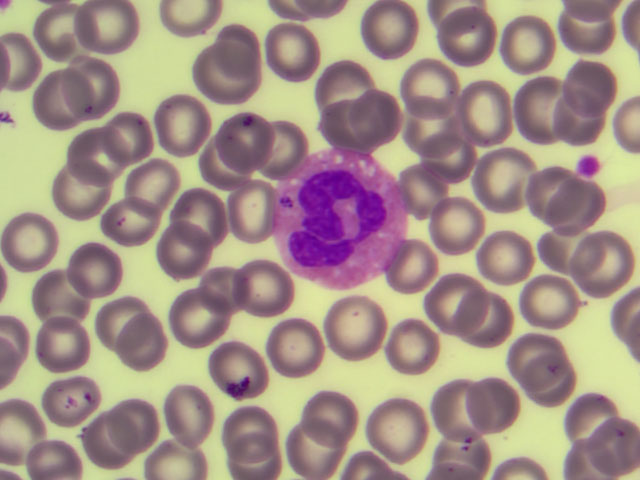Platelets: (577, 151, 603, 180)
RBC: (19, 422, 77, 480), (582, 422, 640, 480), (31, 1, 89, 58), (72, 62, 130, 119), (38, 75, 96, 132), (114, 105, 172, 162), (71, 116, 129, 173), (48, 161, 106, 218), (1, 210, 59, 267), (63, 245, 121, 302), (28, 272, 86, 329), (23, 314, 81, 371), (41, 367, 99, 424), (79, 418, 137, 475), (122, 398, 180, 455), (115, 326, 173, 383), (90, 291, 148, 348), (155, 288, 213, 345), (193, 263, 251, 320), (227, 260, 285, 317), (154, 217, 212, 274), (165, 183, 223, 240), (95, 190, 153, 247), (132, 151, 190, 208), (147, 85, 205, 142), (189, 129, 247, 186), (219, 108, 277, 165), (257, 117, 315, 174), (204, 52, 262, 109), (216, 13, 274, 70), (260, 22, 318, 79), (307, 53, 365, 110), (350, 91, 408, 148), (309, 100, 367, 157), (385, 154, 443, 211), (424, 137, 482, 194), (397, 105, 455, 162), (407, 59, 465, 116), (441, 17, 499, 74), (498, 17, 556, 74), (553, 6, 611, 63), (562, 57, 620, 114), (556, 94, 614, 151), (514, 76, 572, 133), (466, 86, 524, 143), (475, 152, 533, 209), (513, 161, 571, 218), (553, 178, 611, 235), (537, 224, 595, 281), (582, 235, 640, 292), (516, 271, 574, 328), (469, 227, 527, 284), (443, 193, 501, 250), (386, 236, 444, 293), (409, 269, 467, 326), (469, 301, 527, 358), (515, 330, 573, 387), (529, 357, 587, 414), (565, 380, 623, 437), (468, 377, 526, 434), (421, 384, 479, 441), (381, 316, 439, 373), (327, 298, 385, 355), (266, 321, 324, 378), (214, 344, 272, 401), (167, 384, 225, 441), (218, 398, 276, 455), (297, 418, 355, 475), (319, 380, 377, 437), (373, 392, 431, 449), (1, 401, 58, 458), (80, 1, 138, 57), (363, 1, 421, 57), (438, 434, 491, 480)
WBC: (271, 150, 407, 288)
